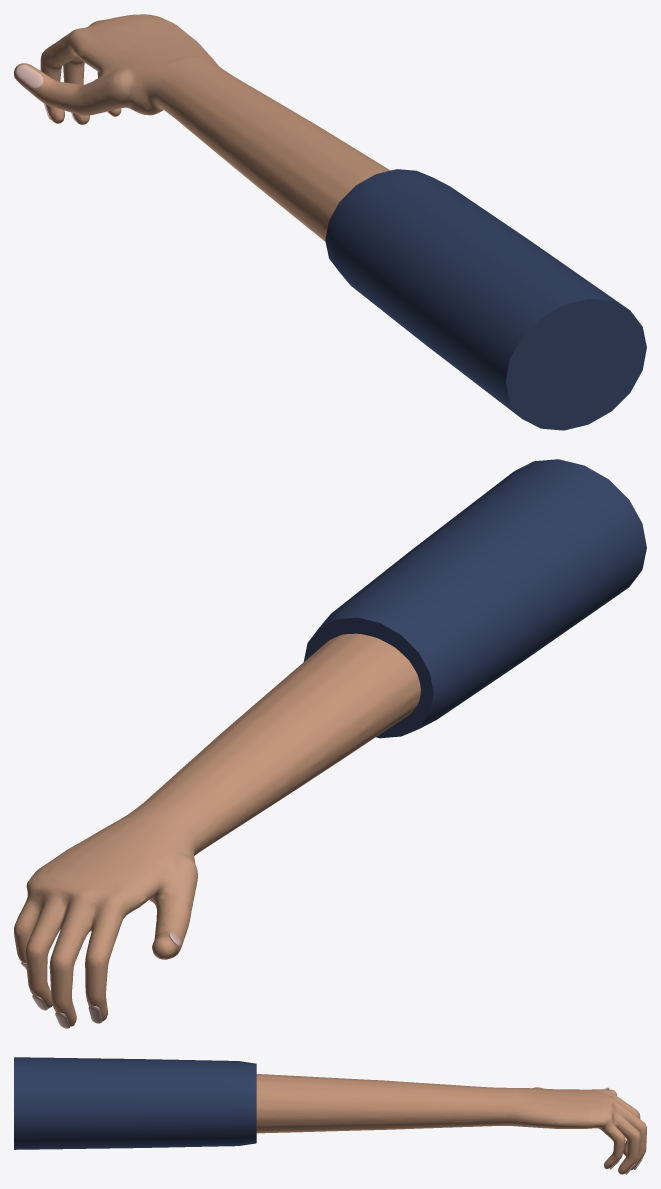
The model's file is tay_cao.glb.
3 views of the same model, one above another, from view 1: azimuth 30°, elevation 25°; view 2: azimuth 150°, elevation 25°; view 3: azimuth 270°, elevation 25° (orthographic). The views are drawn at different scales.
Visible parts, largest first — view 1: tay_cao; view 2: tay_cao; view 3: tay_cao.
Part boxes in pixels (x1,y1,x2,y2): tay_cao: (14,14,646,430); tay_cao: (14,459,646,1028); tay_cao: (14,1057,646,1174).
Size of the model in its own units: 0.1366 by 0.135 by 0.7041.
